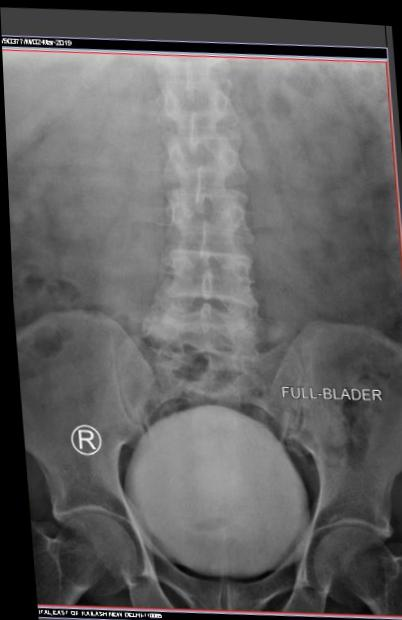bladder: (106, 389, 348, 615)
vertebrae: (161, 35, 249, 103)
